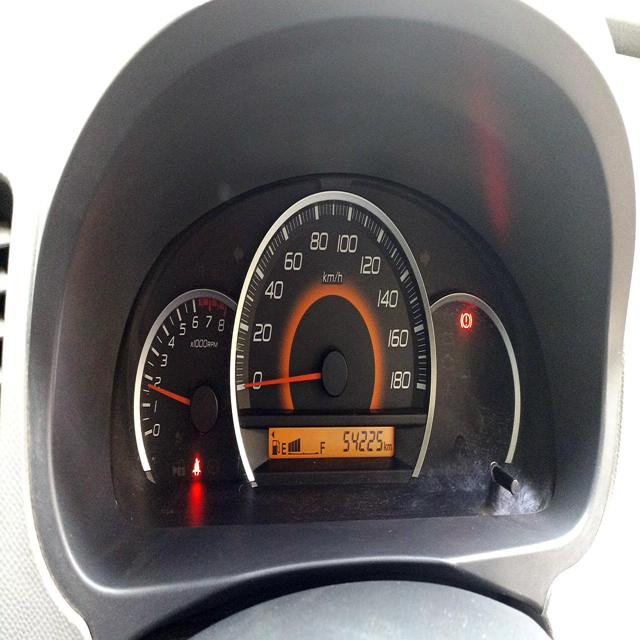odometer: (342, 428, 383, 454)
